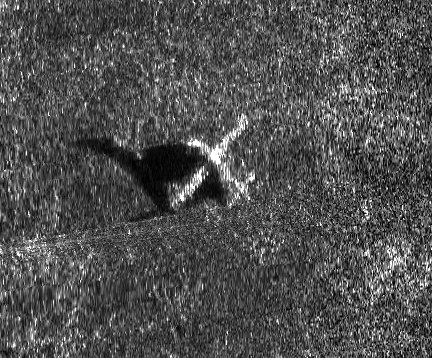plane: (160, 123, 259, 210)
